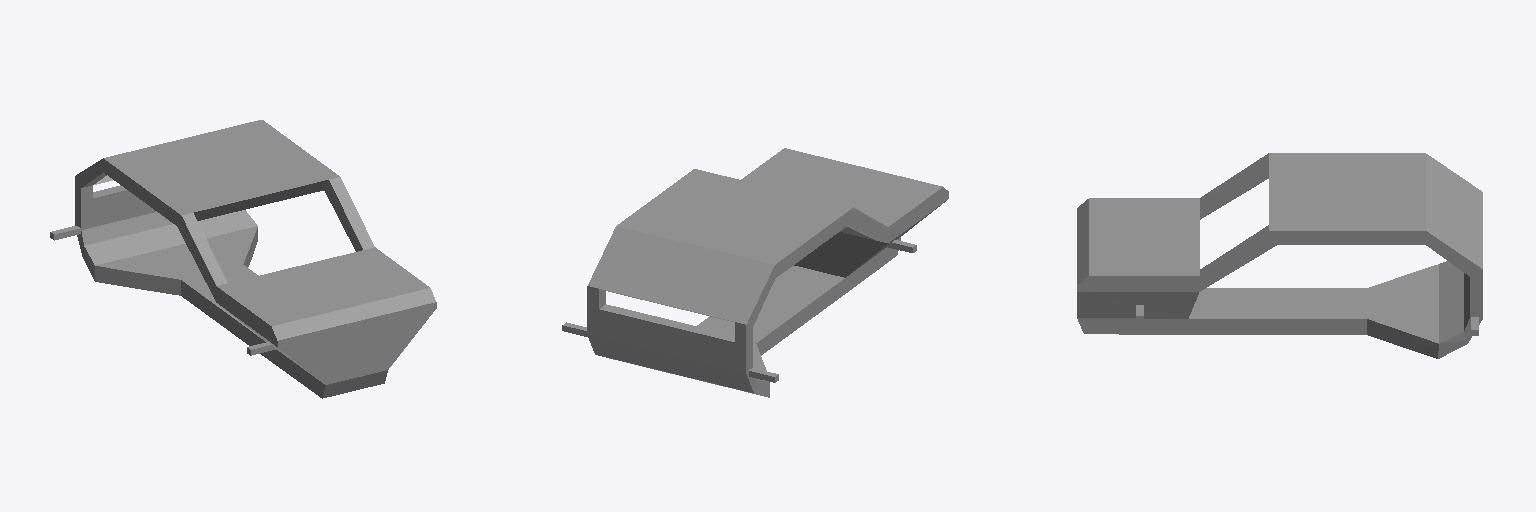
Rendered from BasicCar.obj.
3 views of the same model, side by side, from view 1: azimuth 30°, elevation 25°; view 2: azimuth 150°, elevation 25°; view 3: azimuth 270°, elevation 25° (orthographic).
Visible parts, largest first — view 1: Cube; view 2: Cube; view 3: Cube.
Boxes of the visible parts, x1,y1,x2,y2 form: Cube: [50, 120, 436, 398]; Cube: [562, 148, 948, 397]; Cube: [1077, 153, 1482, 358].
Size of the model in its own units: 144 by 82.71 by 238.